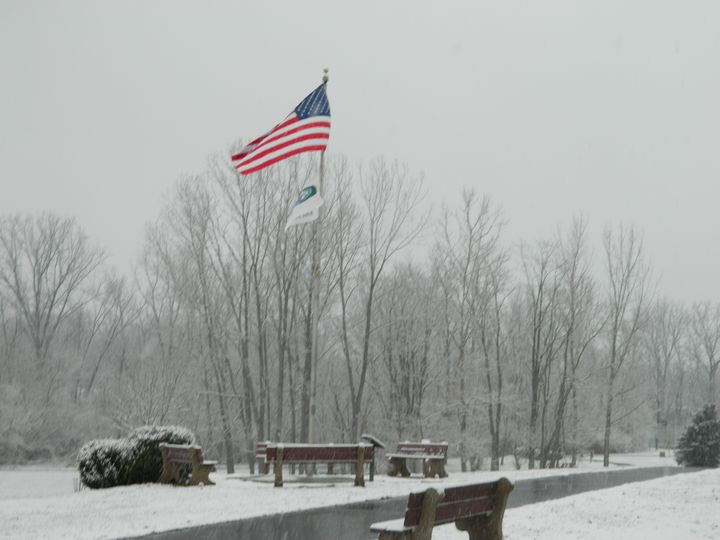America flag: (225, 83, 334, 175)
